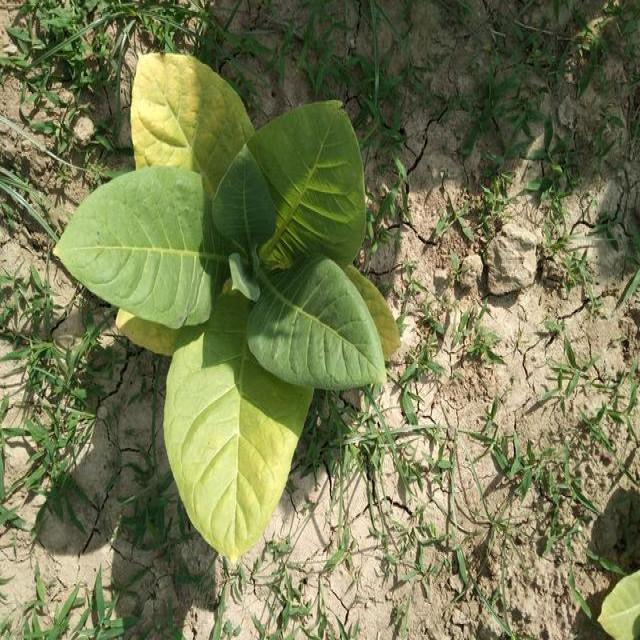crop: (52, 47, 401, 568)
